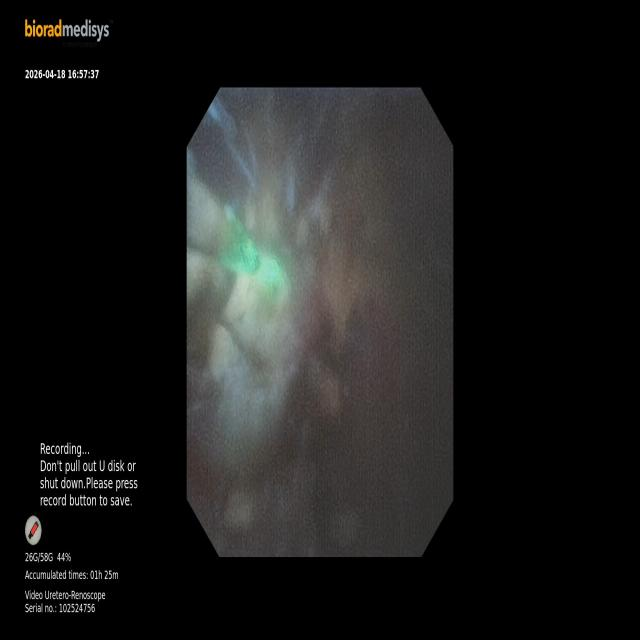laser-fibre: (187, 176, 260, 273)
laser_dot: (255, 252, 285, 292)
stone-new: (205, 253, 301, 466)
